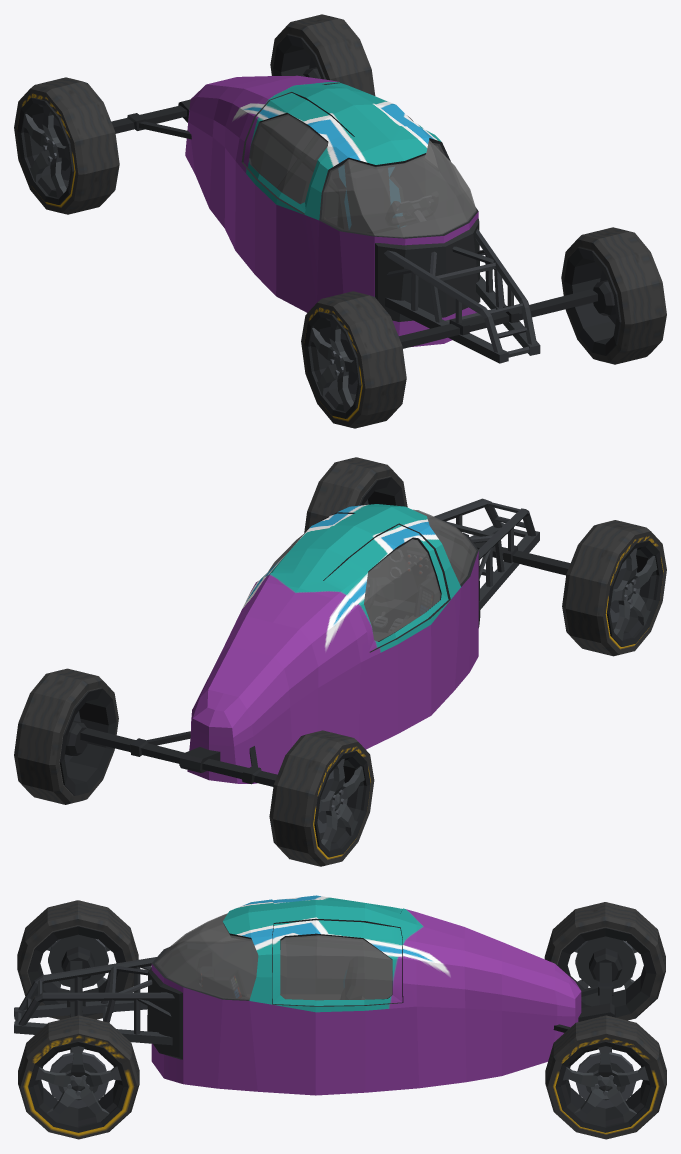
File: SM_Veh_Prototype_01.fbx
The picture shows the model from 3 angles, top to bottom: view 1: azimuth 30°, elevation 25°; view 2: azimuth 150°, elevation 25°; view 3: azimuth 270°, elevation 25°; orthographic projection. The views are drawn at different scales.
Visible parts, largest first — view 1: SM_Veh_Prototype_01, SM_Veh_Prototype_01_Wheel_RR, SM_Veh_Prototype_01_Wheel_FR, SM_Veh_Prototype_01_Wheel_FL, SM_Veh_Prototype_01_Wheel_RL, SM_Veh_Prototype_01_Window_R_Glass_01; view 2: SM_Veh_Prototype_01, SM_Veh_Prototype_01_Wheel_RR, SM_Veh_Prototype_01_Wheel_FR, SM_Veh_Prototype_01_Wheel_RL, SM_Veh_Prototype_01_Window_R_Glass_01, SM_Veh_Prototype_01_Wheel_FL; view 3: SM_Veh_Prototype_01, SM_Veh_Prototype_01_Wheel_FL, SM_Veh_Prototype_01_Wheel_RL, SM_Veh_Prototype_01_Wheel_RR, SM_Veh_Prototype_01_Wheel_FR, SM_Veh_Prototype_01_Window_L_Glass_01.
Part boxes in pixels (x1,y1,x2,y2): SM_Veh_Prototype_01: (111, 74, 597, 363); SM_Veh_Prototype_01_Wheel_RR: (14, 77, 119, 214); SM_Veh_Prototype_01_Wheel_FR: (301, 291, 406, 428); SM_Veh_Prototype_01_Wheel_FL: (561, 227, 666, 364); SM_Veh_Prototype_01_Wheel_RL: (270, 14, 375, 95); SM_Veh_Prototype_01_Window_R_Glass_01: (250, 114, 328, 204); SM_Veh_Prototype_01: (80, 498, 570, 786); SM_Veh_Prototype_01_Wheel_RR: (269, 730, 374, 866); SM_Veh_Prototype_01_Wheel_FR: (562, 520, 666, 656); SM_Veh_Prototype_01_Wheel_RL: (14, 668, 118, 804); SM_Veh_Prototype_01_Window_R_Glass_01: (364, 539, 440, 641); SM_Veh_Prototype_01_Wheel_FL: (304, 457, 407, 533); SM_Veh_Prototype_01: (14, 895, 615, 1095); SM_Veh_Prototype_01_Wheel_FL: (18, 1015, 139, 1139); SM_Veh_Prototype_01_Wheel_RL: (545, 1015, 666, 1139); SM_Veh_Prototype_01_Wheel_RR: (544, 902, 665, 1020); SM_Veh_Prototype_01_Wheel_FR: (17, 900, 138, 1019); SM_Veh_Prototype_01_Window_L_Glass_01: (280, 935, 392, 1000).
Size of the model in its own units: 255 by 150 by 522.
